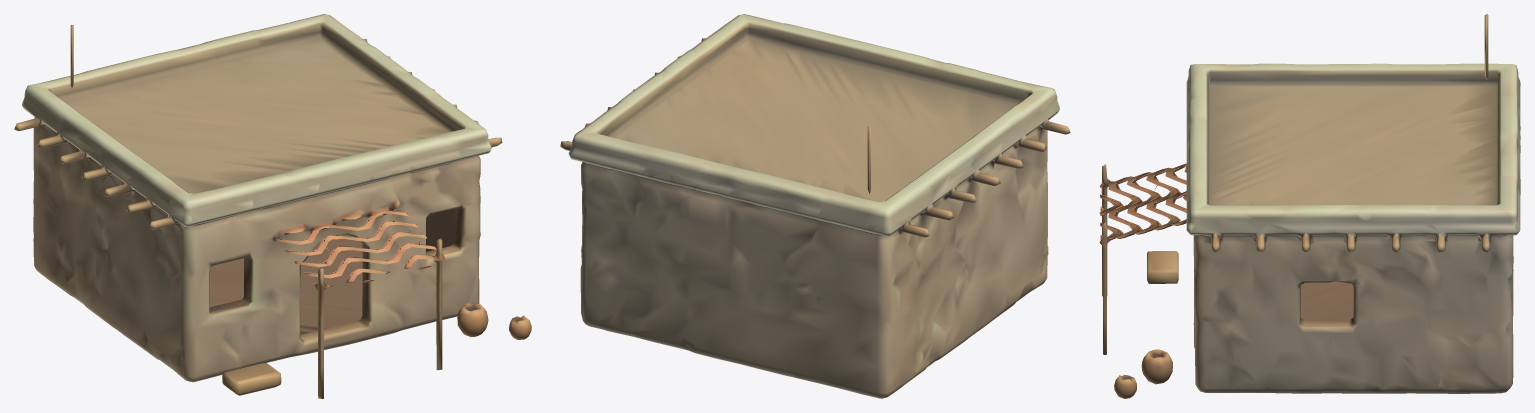
Rendered from env_se_house_a.glb.
The picture shows the model from 3 angles, left to right: view 1: azimuth 30°, elevation 25°; view 2: azimuth 150°, elevation 25°; view 3: azimuth 270°, elevation 25°; orthographic projection. The views are drawn at different scales.
Visible parts, largest first — view 1: geometry_0; view 2: geometry_0; view 3: geometry_0.
Part boxes in pixels (x1=…): geometry_0: x1=14, y1=14, x2=531, y2=398; geometry_0: x1=560, y1=14, x2=1070, y2=398; geometry_0: x1=1099, y1=14, x2=1520, y2=398.
Size of the model in its own units: 7.77 by 5.24 by 7.95.
